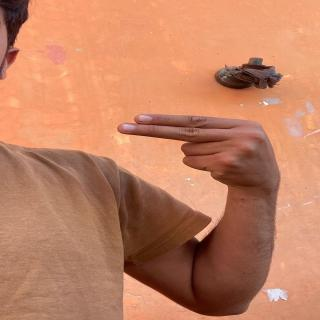AYN: (111, 101, 292, 190)
